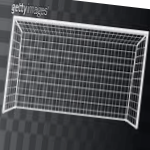goals: (1, 13, 150, 129)
